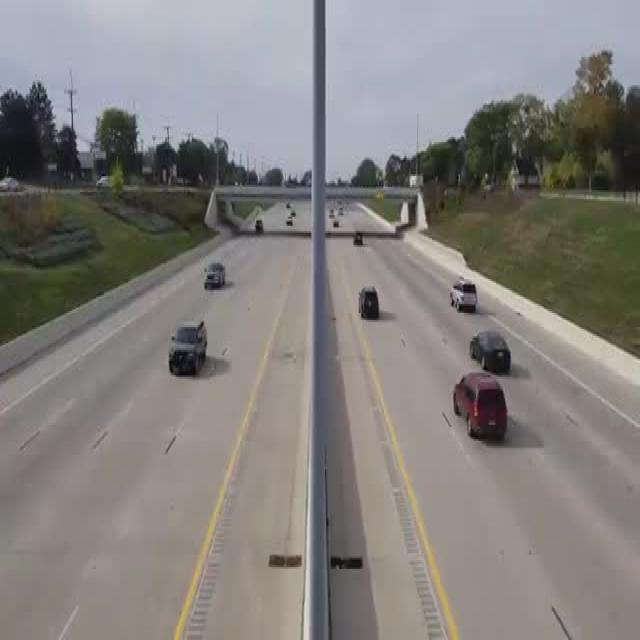car: (440, 369, 519, 440), (171, 308, 206, 388), (467, 328, 523, 374), (352, 275, 386, 332), (448, 276, 486, 312), (200, 251, 224, 296), (347, 219, 371, 257), (248, 217, 268, 236)
